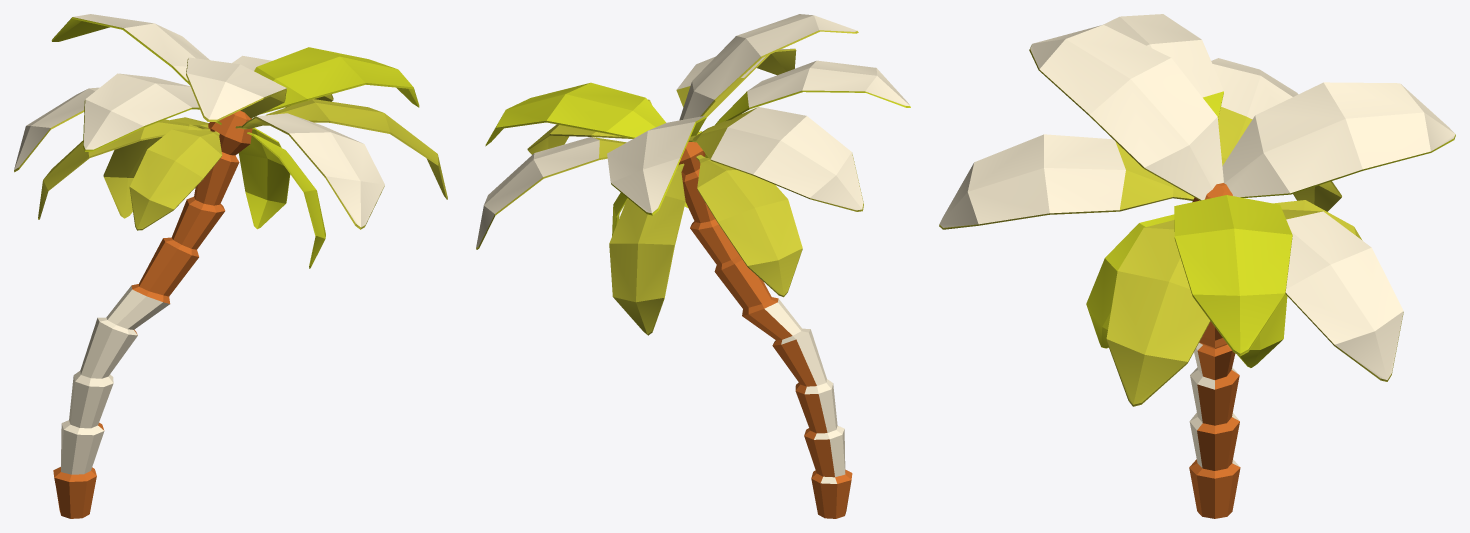
Rendered from Tree_10_Winter.fbx.
3 views of the same model, side by side, from view 1: azimuth 30°, elevation 25°; view 2: azimuth 150°, elevation 25°; view 3: azimuth 270°, elevation 25° (orthographic). The views are drawn at different scales.
Visible parts, largest first — view 1: Tree_10_p2_Winter, Tree_10_p1_Winter; view 2: Tree_10_p2_Winter, Tree_10_p1_Winter; view 3: Tree_10_p2_Winter, Tree_10_p1_Winter.
Part boxes in pixels (x1,y1,x2,y2): Tree_10_p2_Winter: (14,14,447,268); Tree_10_p1_Winter: (53,110,252,518); Tree_10_p2_Winter: (476,14,910,335); Tree_10_p1_Winter: (678,142,852,518); Tree_10_p2_Winter: (939,14,1455,406); Tree_10_p1_Winter: (1189,183,1240,518).
Size of the model in its own units: 357 by 391 by 351.
